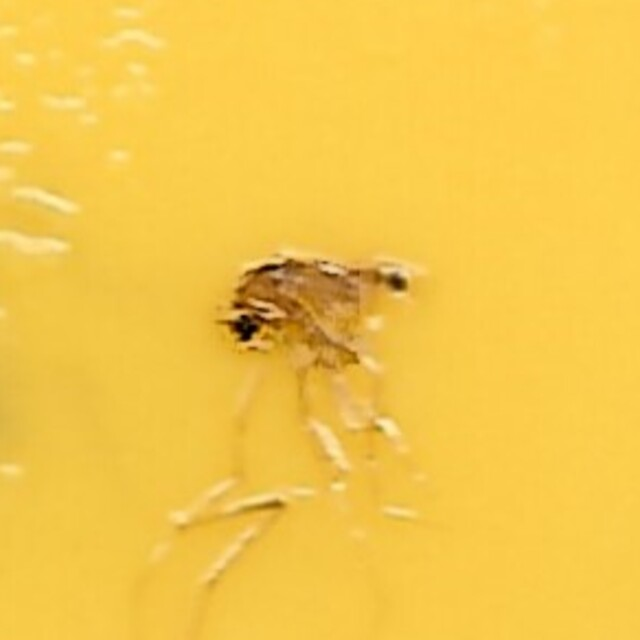Nematocera: (219, 244, 421, 396)
